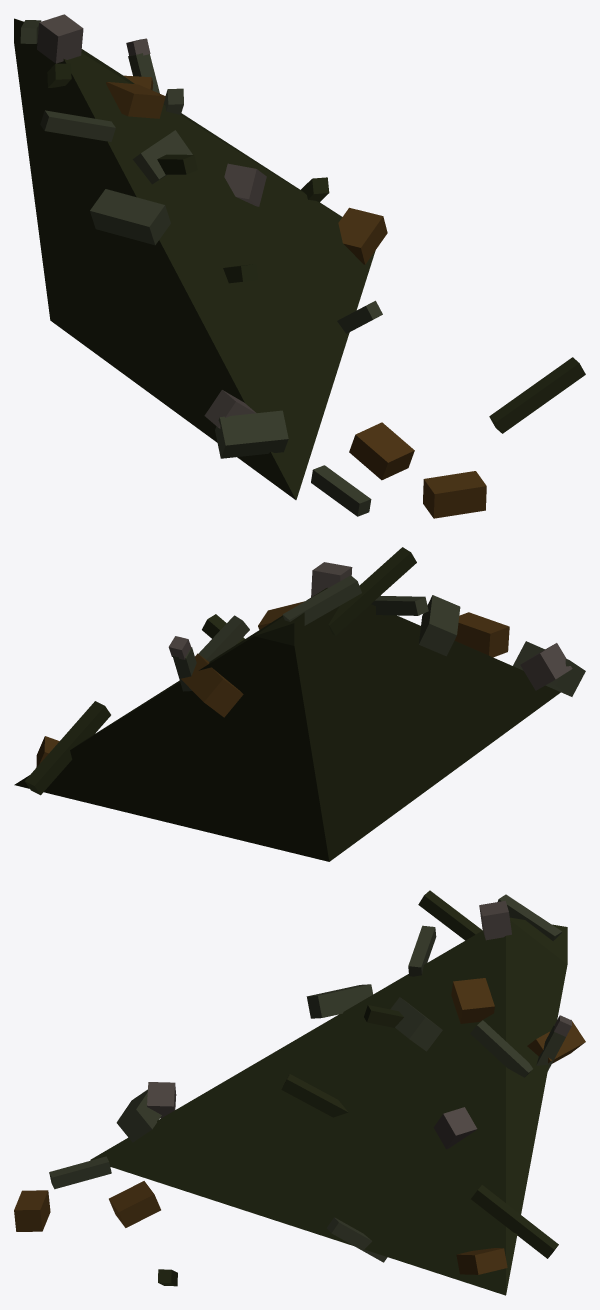
The model's file is SM_PilaZombi_RemateDer_Altura5_s0_LOD1.fbx.
3 views of the same model, one above another, from view 1: azimuth 30°, elevation 25°; view 2: azimuth 150°, elevation 25°; view 3: azimuth 270°, elevation 25° (orthographic). The views are drawn at different scales.
Visible parts, largest first — view 1: SM_pila_zombis_v4_LOD1; view 2: SM_pila_zombis_v4_LOD1; view 3: SM_pila_zombis_v4_LOD1.
Boxes of the visible parts, x1,y1,x2,y2 form: SM_pila_zombis_v4_LOD1: [14, 14, 585, 518]; SM_pila_zombis_v4_LOD1: [14, 547, 585, 861]; SM_pila_zombis_v4_LOD1: [14, 890, 585, 1295].
Size of the model in its own units: 3.37 by 2.74 by 5.12.
